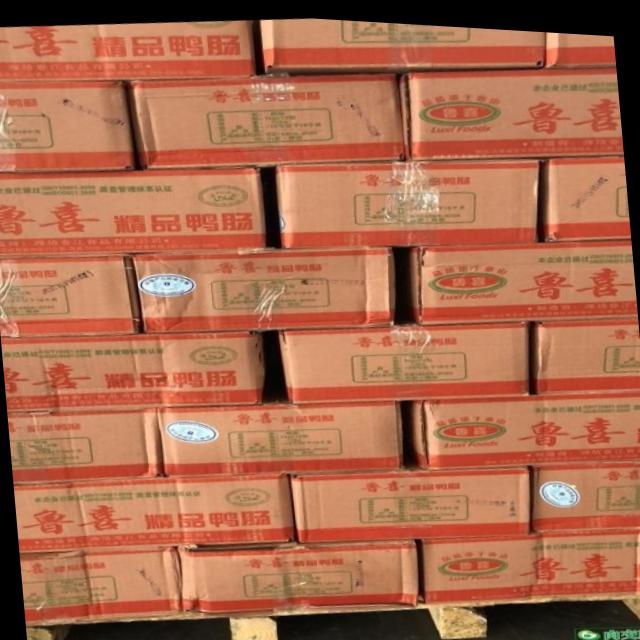box: (125, 68, 404, 168), (276, 151, 542, 245), (0, 164, 261, 254), (136, 240, 397, 330), (18, 470, 295, 553), (1, 330, 264, 413), (400, 59, 624, 156), (281, 315, 533, 400), (159, 396, 404, 476), (291, 461, 532, 541), (181, 534, 417, 614), (410, 234, 635, 317), (415, 387, 640, 463), (0, 16, 260, 81), (424, 521, 640, 599), (259, 14, 546, 72), (0, 78, 137, 173), (21, 543, 181, 624), (0, 249, 143, 338), (13, 407, 163, 482), (536, 312, 640, 390), (533, 454, 640, 525), (545, 149, 626, 231), (544, 25, 616, 61)
